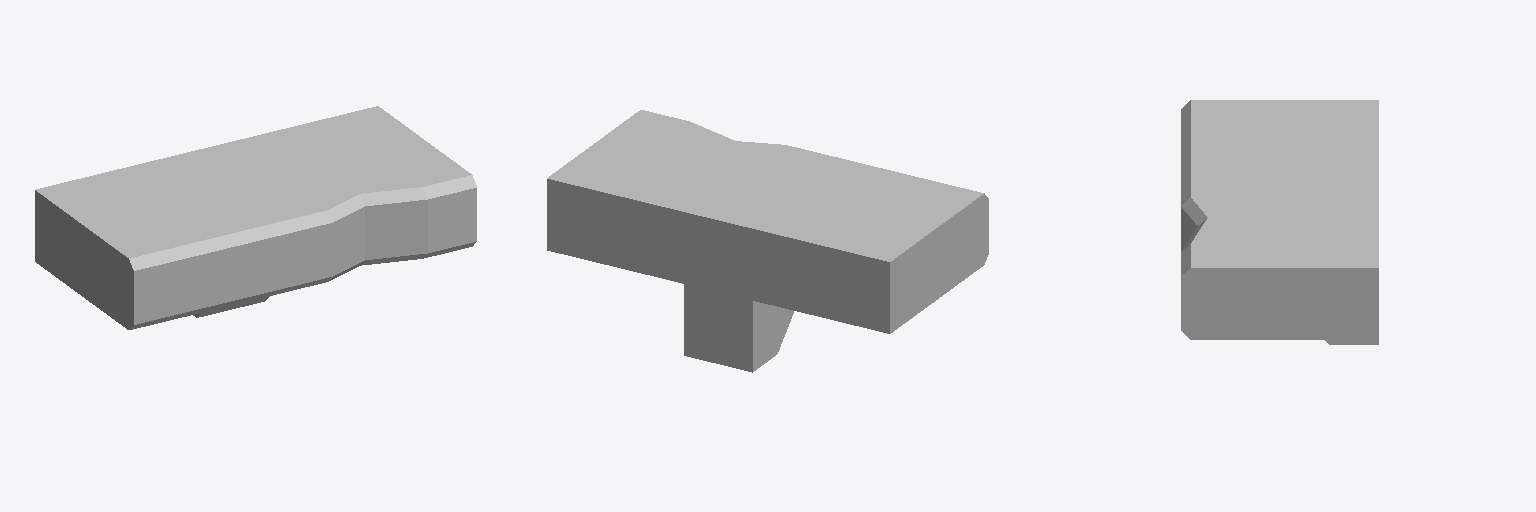
File: shelf_small.obj
3 renders of one model, left to right at view 1: azimuth 30°, elevation 25°; view 2: azimuth 150°, elevation 25°; view 3: azimuth 270°, elevation 25°, orthographic.
Parts seen in each view (by area): view 1: shelf_small; view 2: shelf_small; view 3: shelf_small.
Boxes of the visible parts, x1,y1,x2,y2 form: shelf_small: [35, 106, 476, 329]; shelf_small: [547, 110, 988, 372]; shelf_small: [1181, 100, 1378, 344].
Size of the model in its own units: 1 by 0.4 by 0.5.